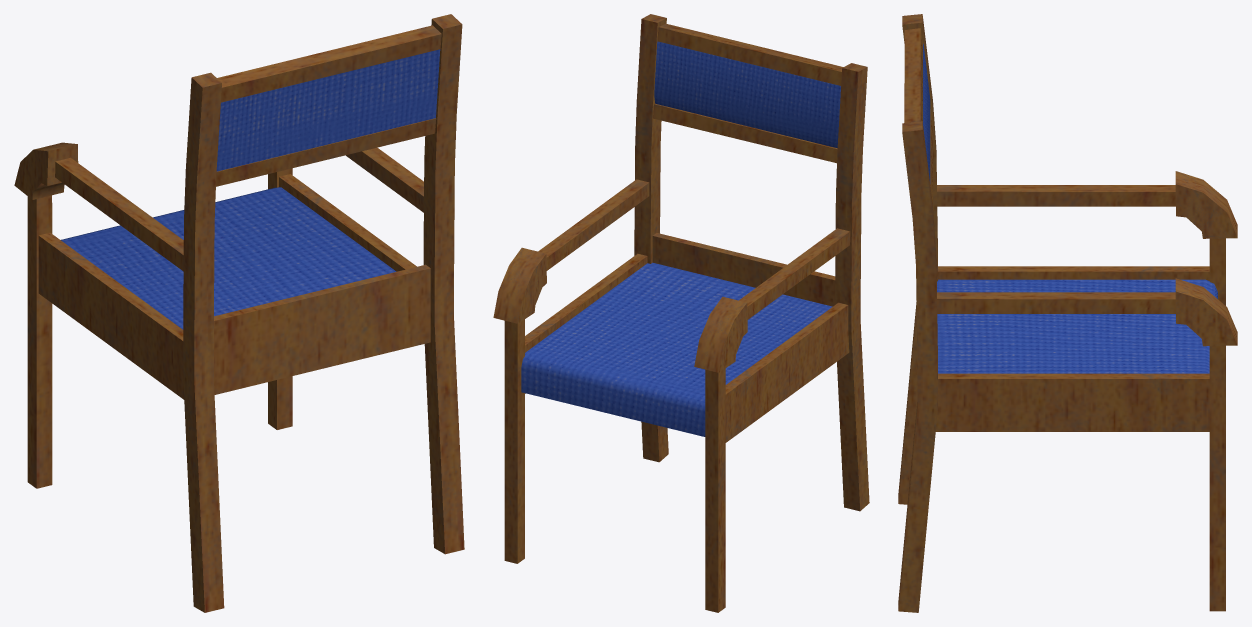
File: Chair3_1.fbx
The picture shows the model from 3 angles, left to right: view 1: azimuth 30°, elevation 25°; view 2: azimuth 150°, elevation 25°; view 3: azimuth 270°, elevation 25°; orthographic projection. The views are drawn at different scales.
Parts seen in each view (by area): view 1: Chair3_1; view 2: Chair3_1; view 3: Chair3_1.
Boxes of the visible parts, x1,y1,x2,y2 form: Chair3_1: (14, 14, 464, 612); Chair3_1: (493, 14, 869, 612); Chair3_1: (898, 14, 1237, 612).
Bounding box in the file's own units: 0.495 × 0.9179 × 0.5847.
